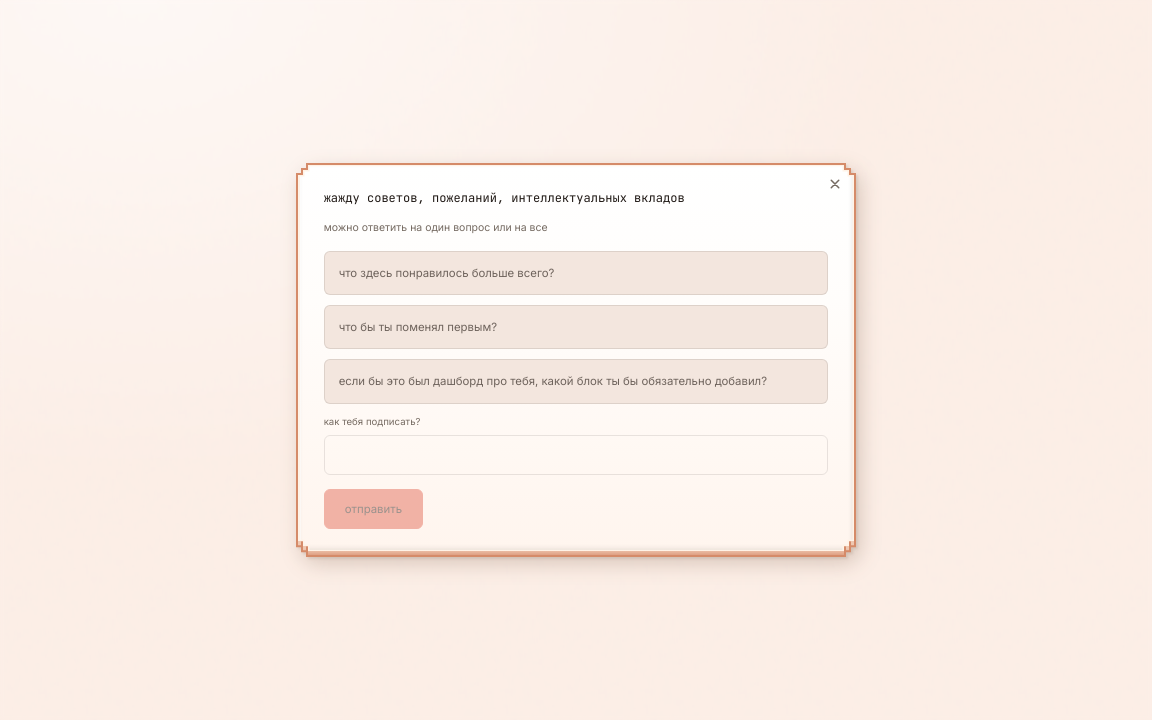
it: FeedbackModal — a note to the author (§5.19) › a filled card stays open even when another one is opened
Step 1. Click the button "что здесь понравилось больше всего?" → (446, 273), box [324,251,828,295]
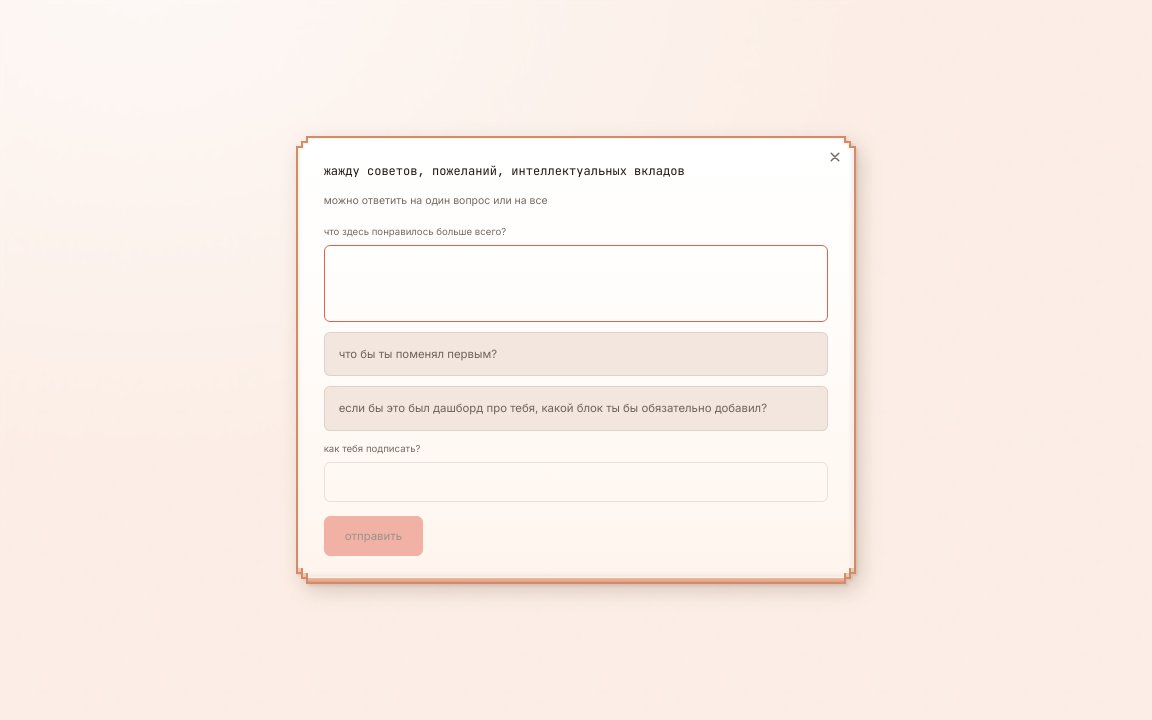
Step 2. Type "календарь" into the text box labelled "что здесь понравилось больше всего?" → (576, 284), box [324,246,828,322]
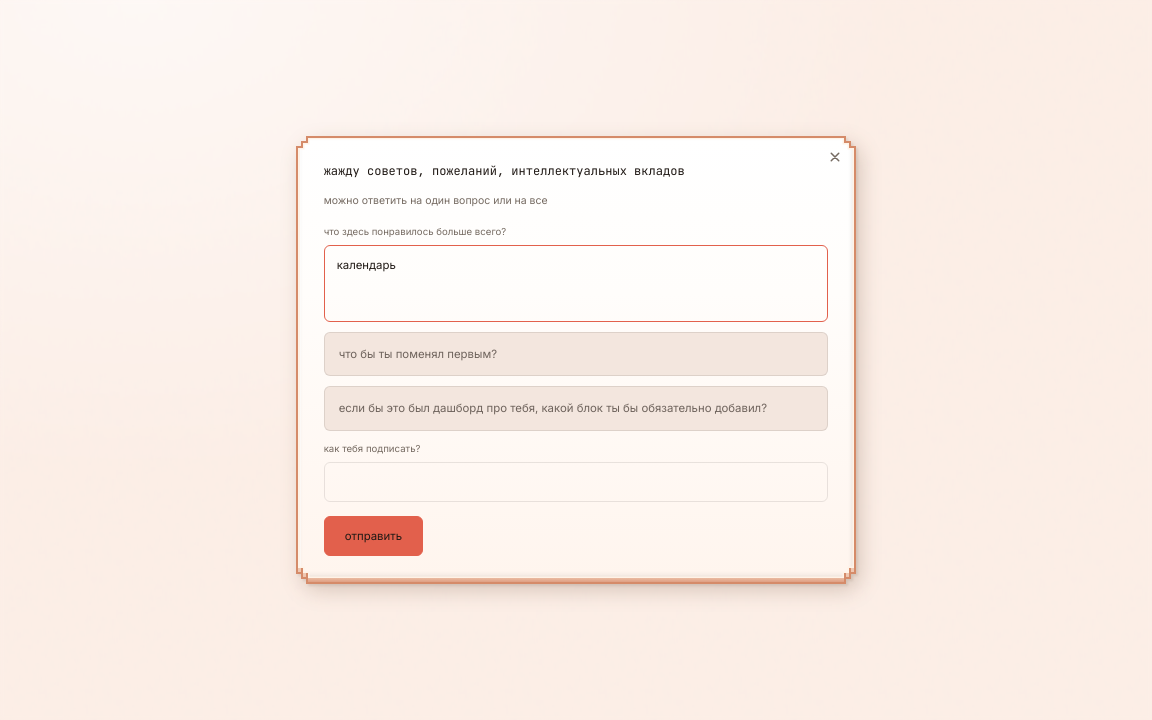
Step 3. Click the button "что бы ты поменял первым?" → (418, 354), box [324,332,828,376]
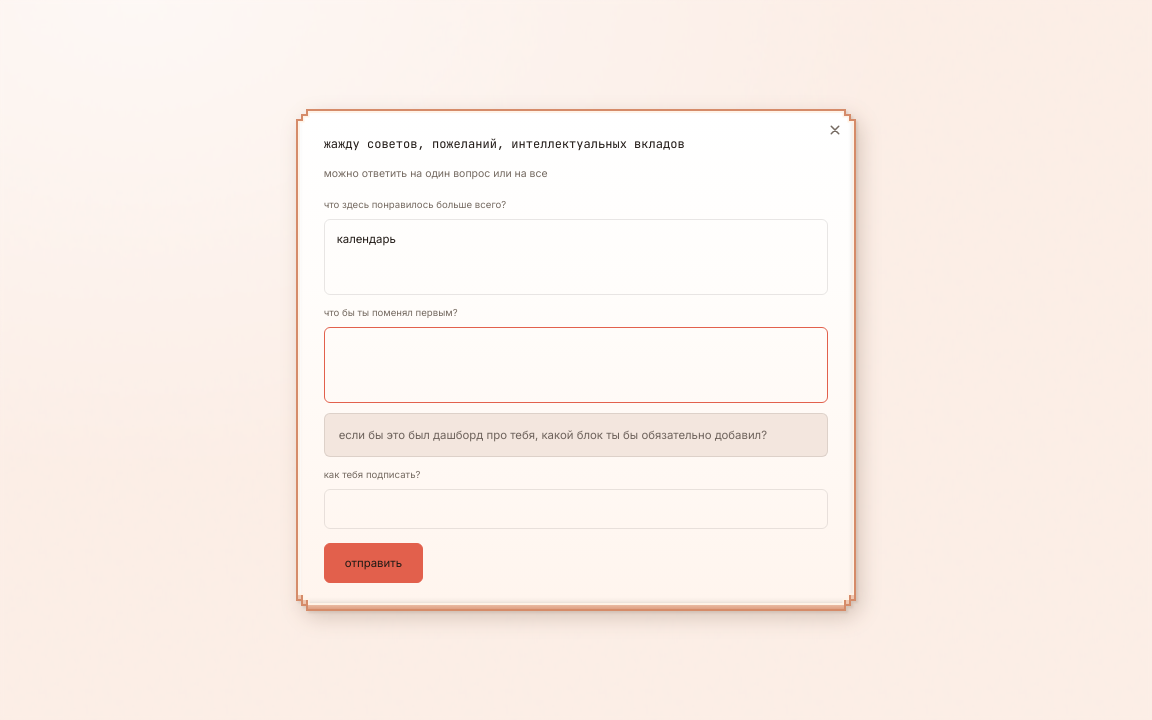
Expected: the text box labelled "что бы ты поменял первым?" is shown, [324,327,828,403]
